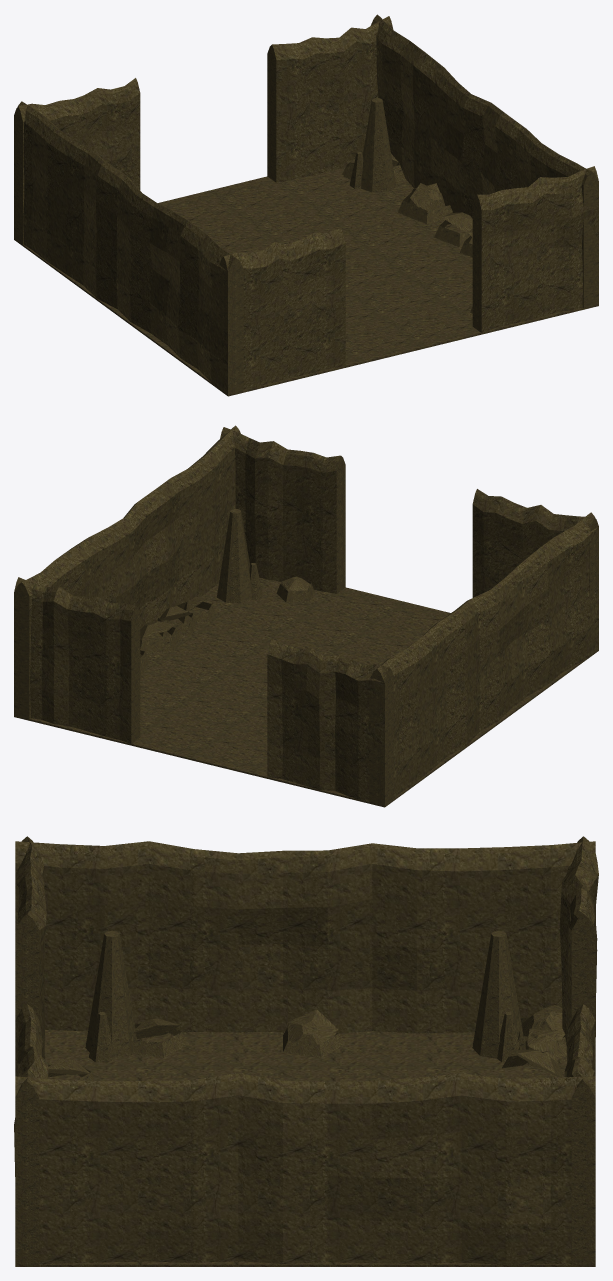
The model's file is dungeon_room_12_limestone.glb.
3 renders of one model, top to bottom at view 1: azimuth 30°, elevation 25°; view 2: azimuth 150°, elevation 25°; view 3: azimuth 270°, elevation 25°, orthographic. The views are drawn at different scales.
Parts seen in each view (by area): view 1: dungeon_room_12_limestone; view 2: dungeon_room_12_limestone; view 3: dungeon_room_12_limestone.
Part boxes in pixels (x1=…): dungeon_room_12_limestone: x1=14, y1=14, x2=598, y2=396; dungeon_room_12_limestone: x1=14, y1=425, x2=598, y2=807; dungeon_room_12_limestone: x1=14, y1=836, x2=598, y2=1266.
Bounding box in the file's own units: 12.13 × 4.3 × 12.09.
2 materials, 2 textured.
